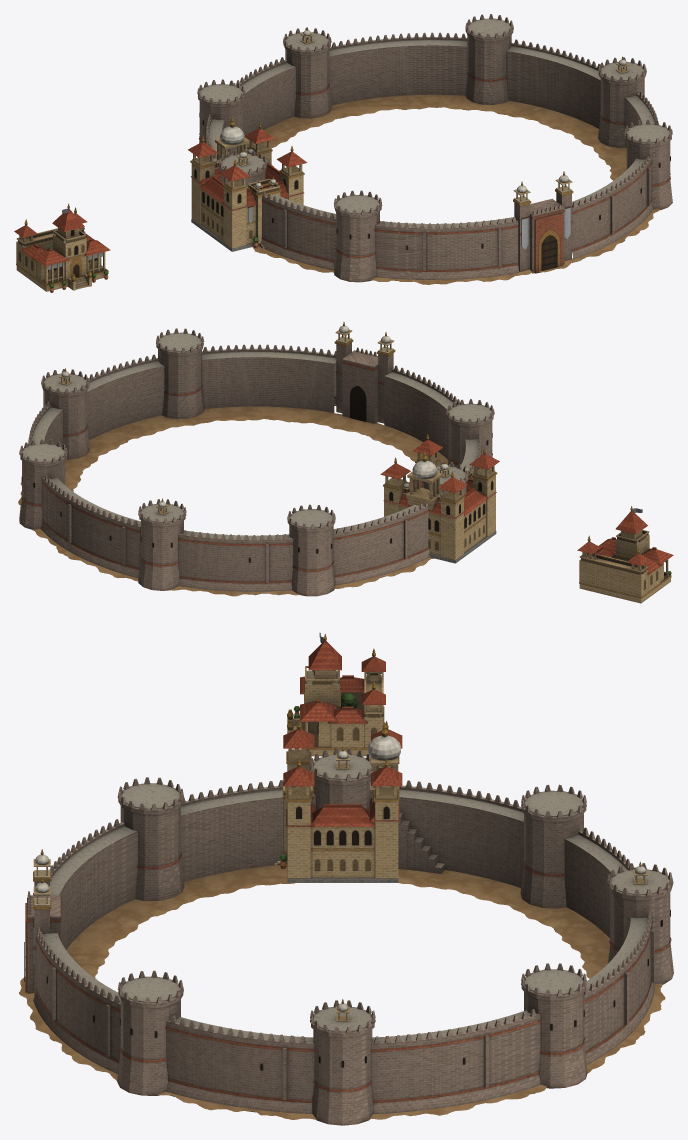
Rendered from shared-kingdoms-indic.glb.
The picture shows the model from 3 angles, top to bottom: view 1: azimuth 30°, elevation 25°; view 2: azimuth 150°, elevation 25°; view 3: azimuth 270°, elevation 25°; orthographic projection. The views are drawn at different scales.
Parts seen in each view (by area): view 1: LOD0.002, LOD0.001, LOD0; view 2: LOD0.002, LOD0.001, LOD0; view 3: LOD0.002, LOD0.001, LOD0.
Part boxes in pixels (x1,y1,x2,y2): LOD0.002: (197,14,672,284); LOD0.001: (188,117,307,251); LOD0: (14,203,110,292); LOD0.002: (18,322,494,596); LOD0.001: (380,434,499,563); LOD0: (577,506,673,603); LOD0.002: (19,746,673,1125); LOD0.001: (274,721,402,882); LOD0: (287,633,385,756).
Size of what is drawn, in the model's own units: 9.95 by 1.59 by 6.78.
3 materials, 3 textured.
